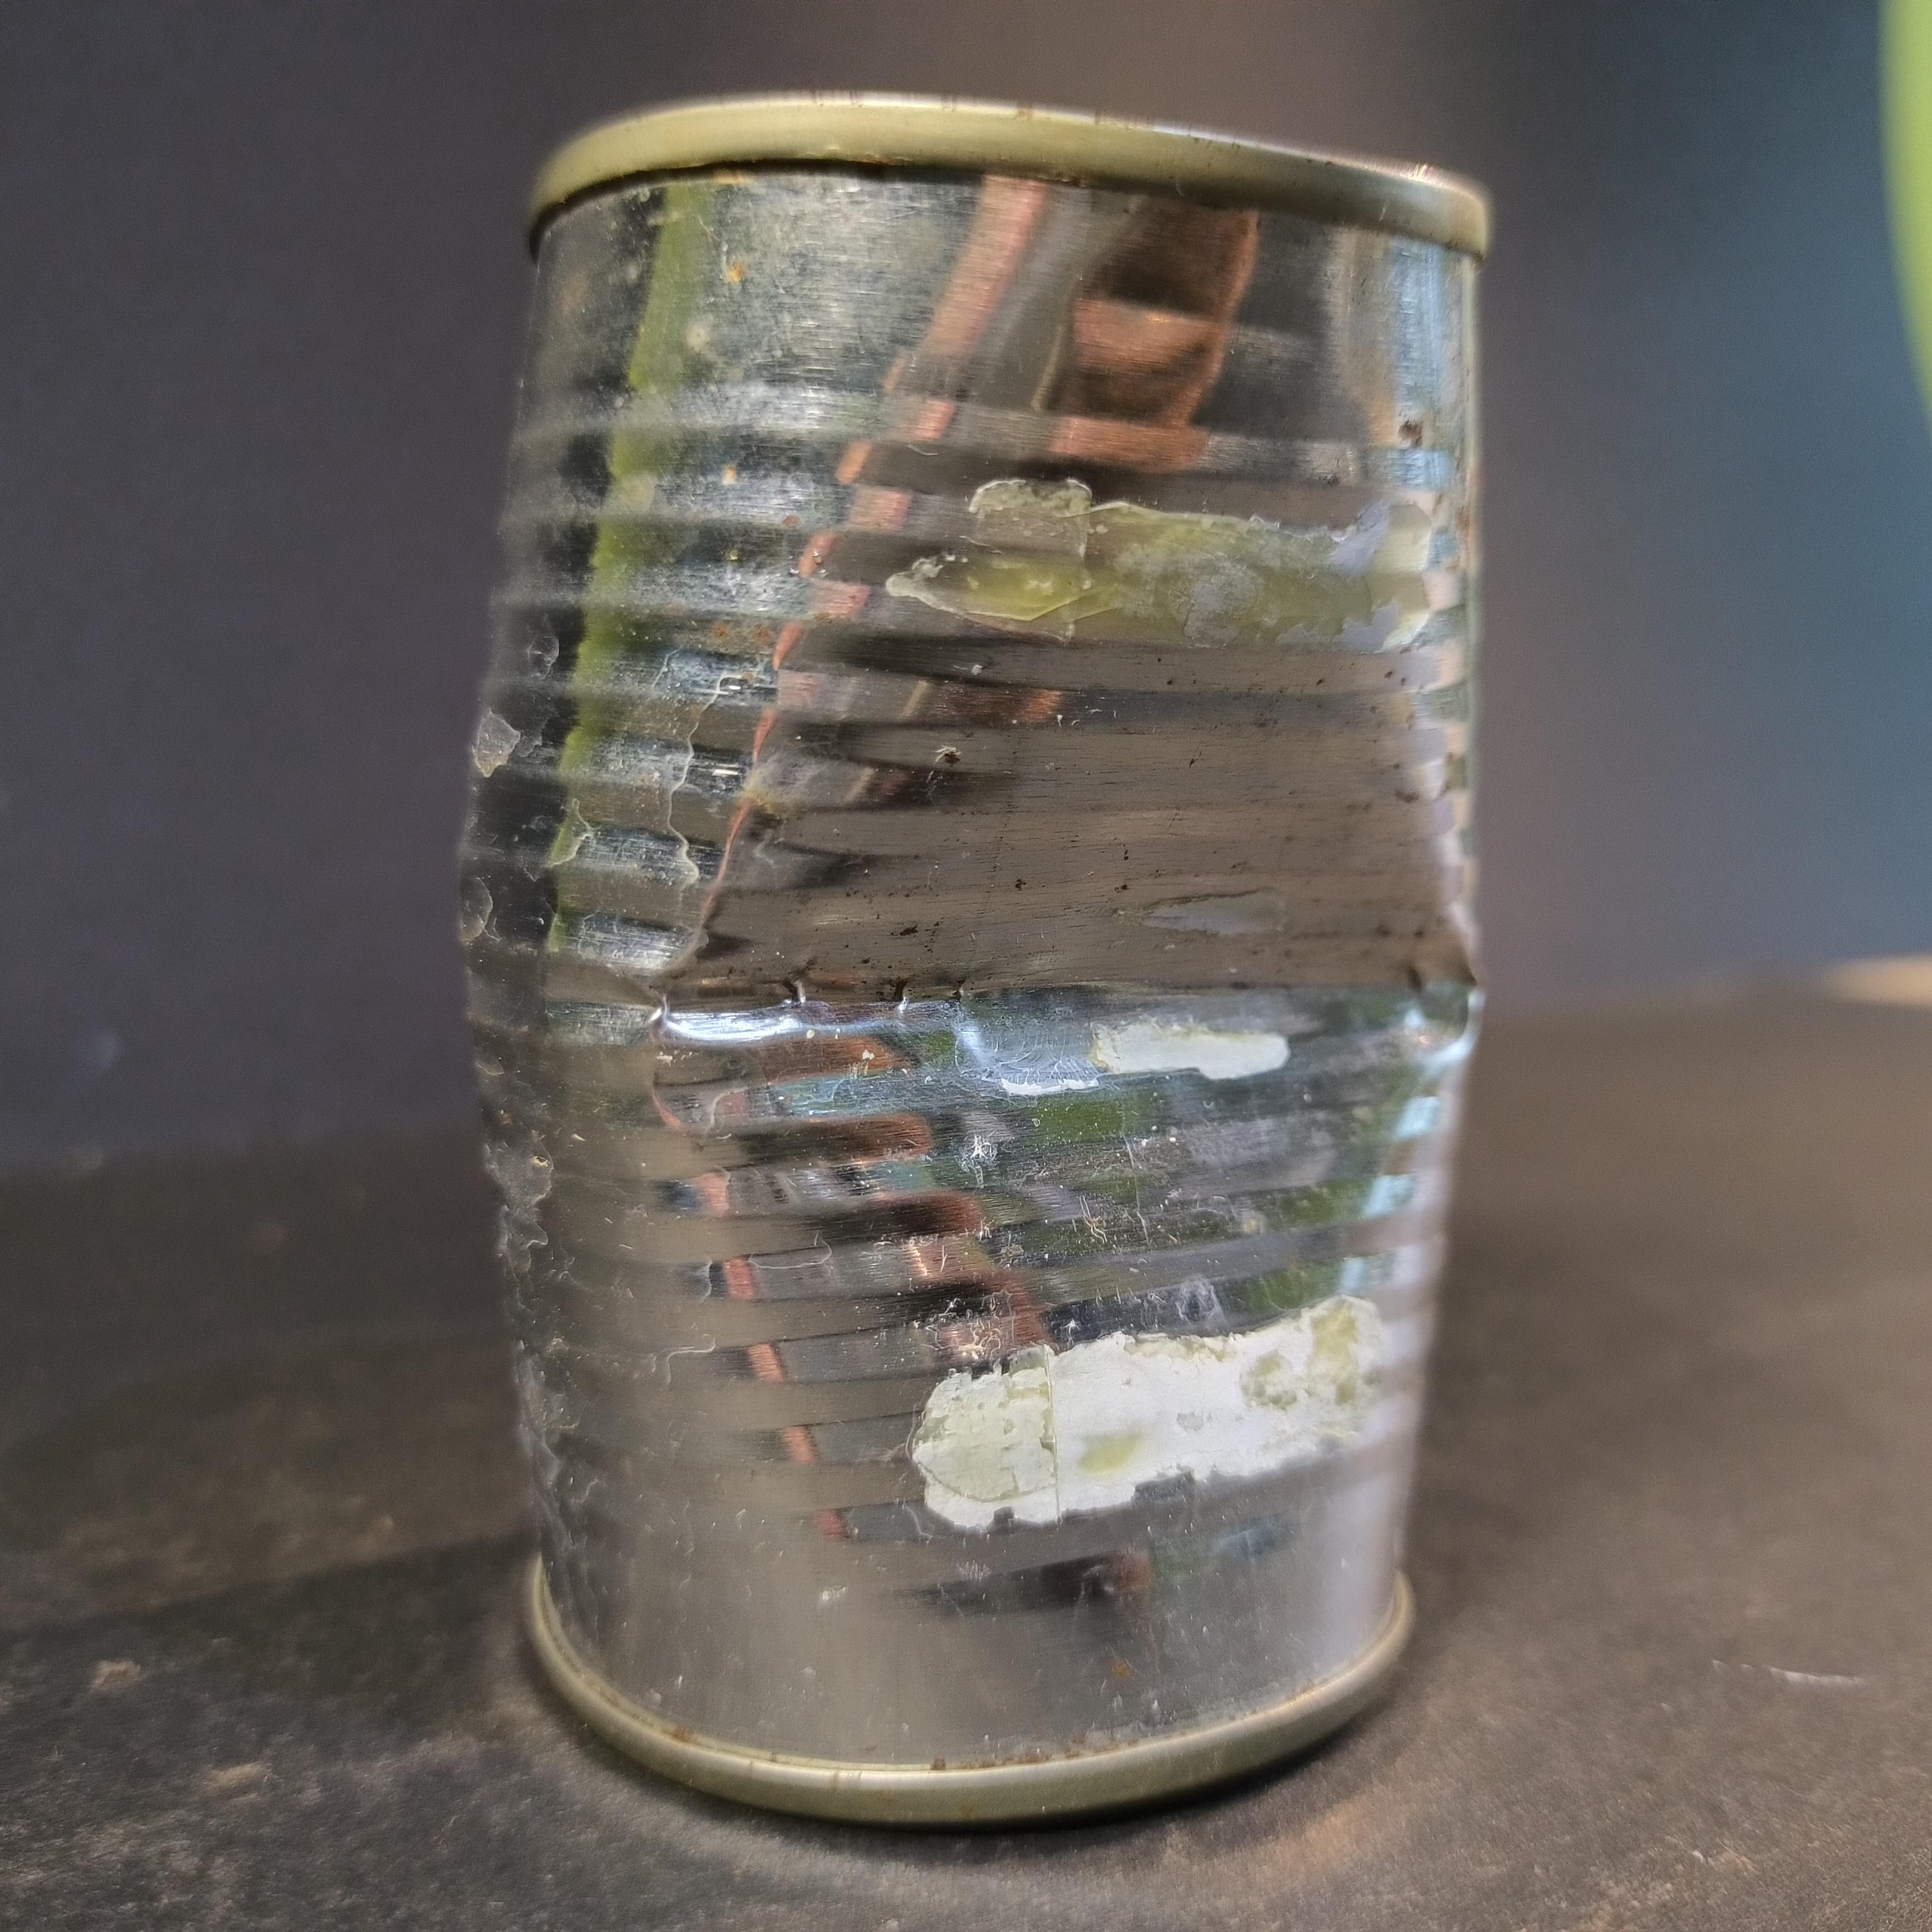Major Defect: (455, 95, 1489, 1822)
